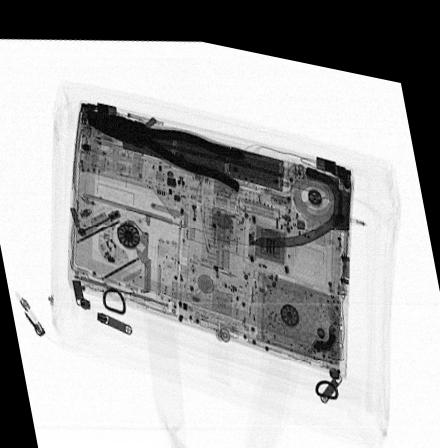Pliers: (85, 102, 247, 185)
